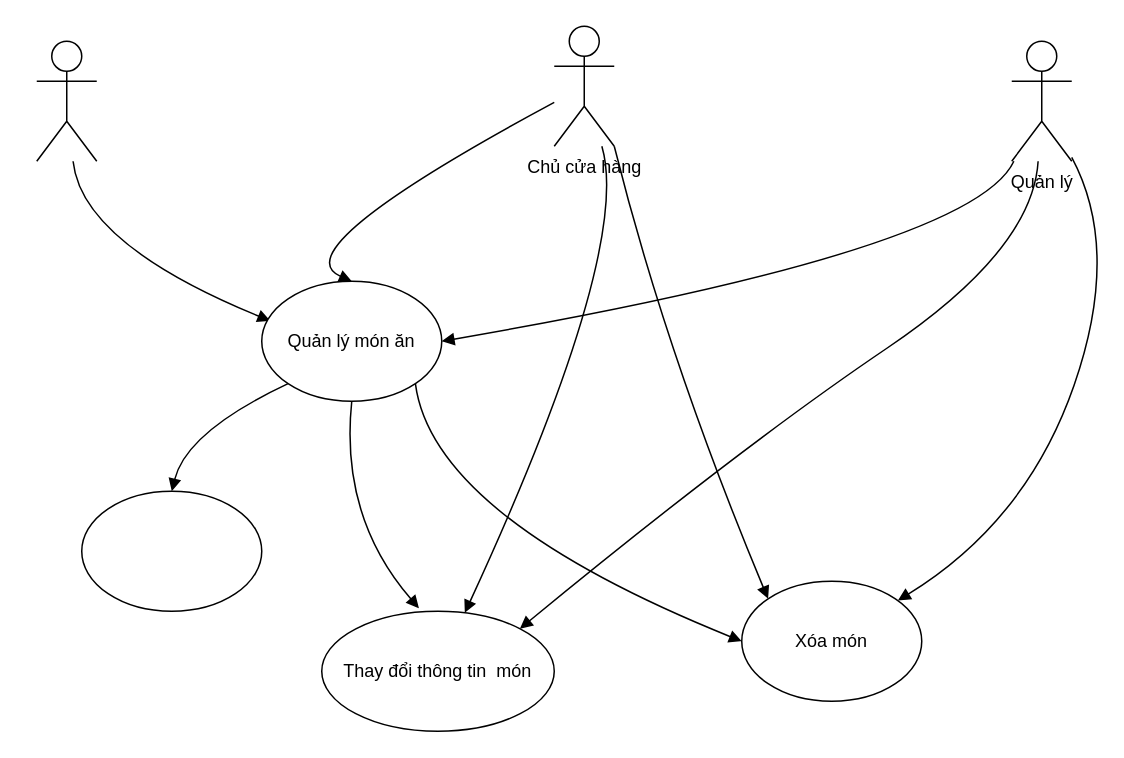
Image size: 1124x758. Some labels were removed from this diagram. Each missing label, with the centre of its shape:
"Nhân viên" goes at pixel 66 100.
"Thêm món mới" goes at pixel 171 550.
